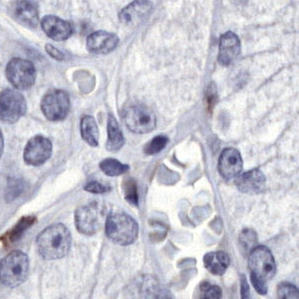Lymphocyte: (3, 215, 37, 244)
